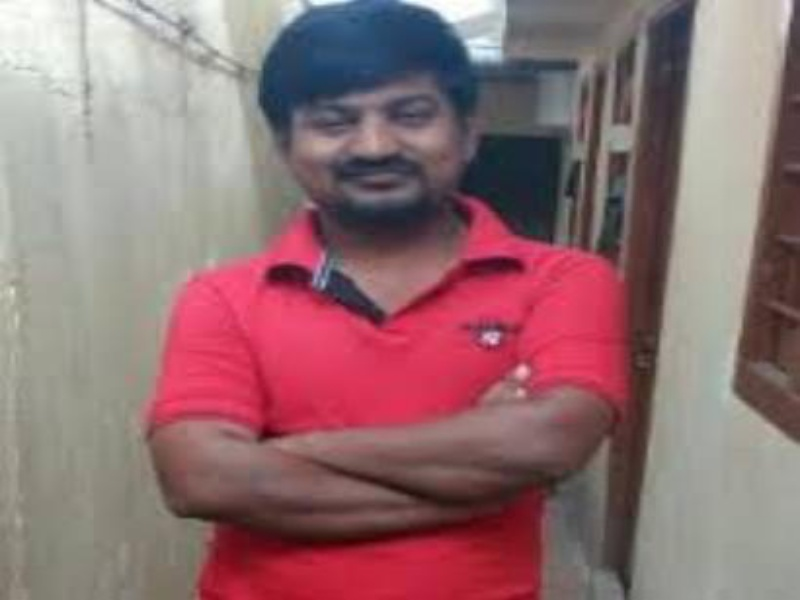TsisyArotava: (234, 6, 505, 251)
